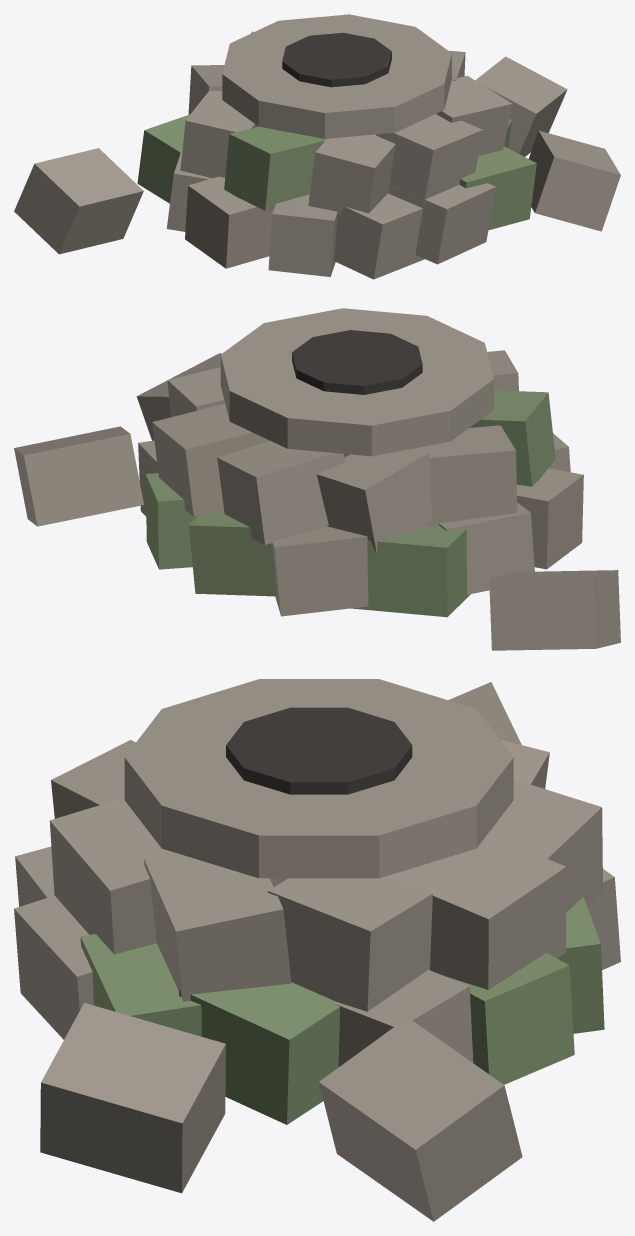
Rendered from altar.glb.
The picture shows the model from 3 angles, top to bottom: view 1: azimuth 30°, elevation 25°; view 2: azimuth 150°, elevation 25°; view 3: azimuth 270°, elevation 25°; orthographic projection. The views are drawn at different scales.
Visible parts, largest first — view 1: Cylinder, Cube.023, Cube.022, Cube.016, Cube.018, Cube.006, Cube.017, Cube.008, Cube.009, Cylinder.001, Cube.007, Cube.021 (+7 smaller); view 2: Cylinder, Cube.023, Cube.021, Cube.013, Cube.014, Cube.004, Cube.015, Cube.003, Cube.012, Cylinder.001, Cube.002, Cube.006 (+8 smaller); view 3: Cylinder, Cube.022, Cube.021, Cube.012, Cube.020, Cube.019, Cube.011, Cylinder.001, Cube.018, Cube.001, Cube.013, Cube.009 (+8 smaller).
Part boxes in pixels (x1=…): Cylinder: x1=222, y1=14, x2=451, y2=138; Cube.023: x1=14, y1=148, x2=143, y2=254; Cube.022: x1=529, y1=130, x2=620, y2=231; Cube.016: x1=224, y1=126, x2=326, y2=210; Cube.018: x1=376, y1=114, x2=482, y2=205; Cube.006: x1=185, y1=176, x2=273, y2=268; Cube.017: x1=308, y1=134, x2=395, y2=215; Cube.008: x1=334, y1=193, x2=424, y2=279; Cube.009: x1=388, y1=183, x2=495, y2=264; Cylinder.001: x1=282, y1=32, x2=391, y2=87; Cube.007: x1=268, y1=194, x2=337, y2=276; Cube.021: x1=475, y1=56, x2=567, y2=156; Cylinder: x1=220, y1=308, x2=493, y2=456; Cube.023: x1=489, y1=570, x2=620, y2=650; Cube.021: x1=14, y1=426, x2=143, y2=526; Cube.013: x1=217, y1=441, x2=344, y2=544; Cube.014: x1=316, y1=448, x2=431, y2=554; Cube.004: x1=351, y1=525, x2=470, y2=617; Cube.015: x1=415, y1=425, x2=517, y2=526; Cube.003: x1=272, y1=526, x2=368, y2=616; Cube.012: x1=152, y1=403, x2=269, y2=516; Cylinder.001: x1=292, y1=330, x2=422, y2=394; Cube.002: x1=189, y1=509, x2=276, y2=596; Cube.006: x1=516, y1=468, x2=583, y2=569; Cylinder: x1=124, y1=679, x2=513, y2=878; Cube.022: x1=40, y1=1003, x2=225, y2=1193; Cube.021: x1=319, y1=1017, x2=522, y2=1221; Cube.012: x1=388, y1=833, x2=566, y2=989; Cube.020: x1=267, y1=876, x2=432, y2=1011; Cube.019: x1=143, y1=852, x2=291, y2=1001; Cube.011: x1=179, y1=982, x2=339, y2=1124; Cylinder.001: x1=226, y1=707, x2=412, y2=794; Cube.018: x1=49, y1=797, x2=172, y2=954; Cube.001: x1=447, y1=953, x2=574, y2=1084; Cube.013: x1=488, y1=779, x2=602, y2=912; Cube.009: x1=14, y1=895, x2=93, y2=1039.
Bounding box in the file's own units: 5.9 × 1.83 × 3.59.
